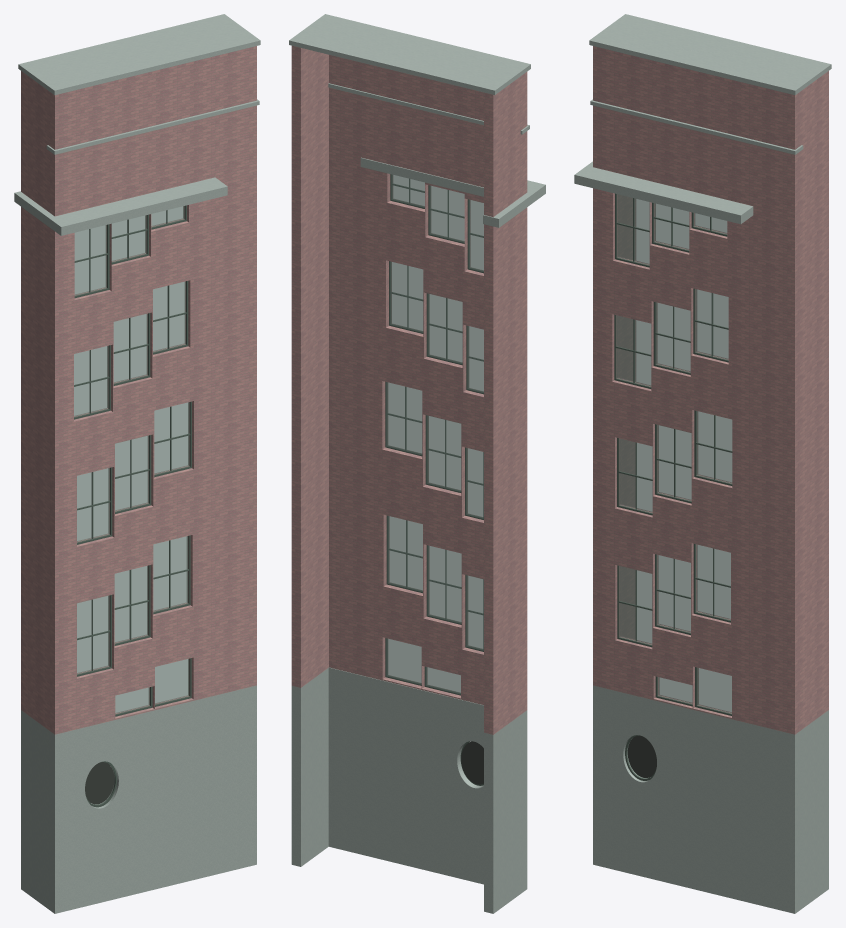
The model's file is full-source.glb.
3 renders of one model, left to right at view 1: azimuth 30°, elevation 25°; view 2: azimuth 150°, elevation 25°; view 3: azimuth 330°, elevation 25°, orthographic.
Parts seen in each view (by area): view 1: 私立妇孺医院旧院临街楼梯间与阶梯钢窗; view 2: 私立妇孺医院旧院临街楼梯间与阶梯钢窗; view 3: 私立妇孺医院旧院临街楼梯间与阶梯钢窗.
Part boxes in pixels (x1,y1,x2,y2): 私立妇孺医院旧院临街楼梯间与阶梯钢窗: (14,14,260,913); 私立妇孺医院旧院临街楼梯间与阶梯钢窗: (289,14,545,913); 私立妇孺医院旧院临街楼梯间与阶梯钢窗: (574,14,831,913).
Size of the model in its own units: 5.48 by 20.56 by 2.12.
Materials: 5 (2 with a texture image).
